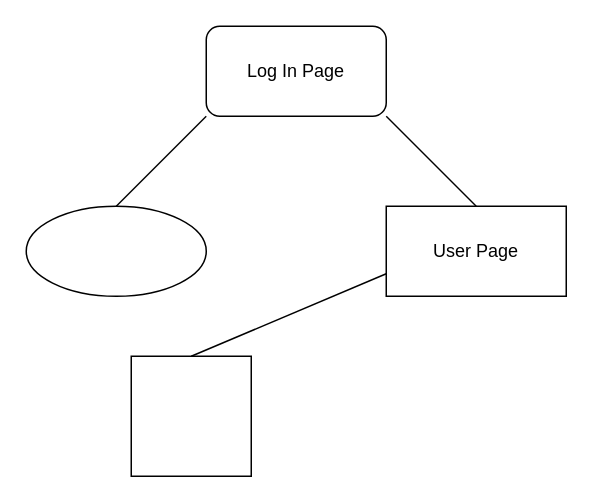
The diagram is 593 pixels wide and 503 high, and some of its shapes have lost their labels. The centre of each missing label's shape, as x and y in pixels:
Admin Page: (115,250)
Article Page: (190,415)
